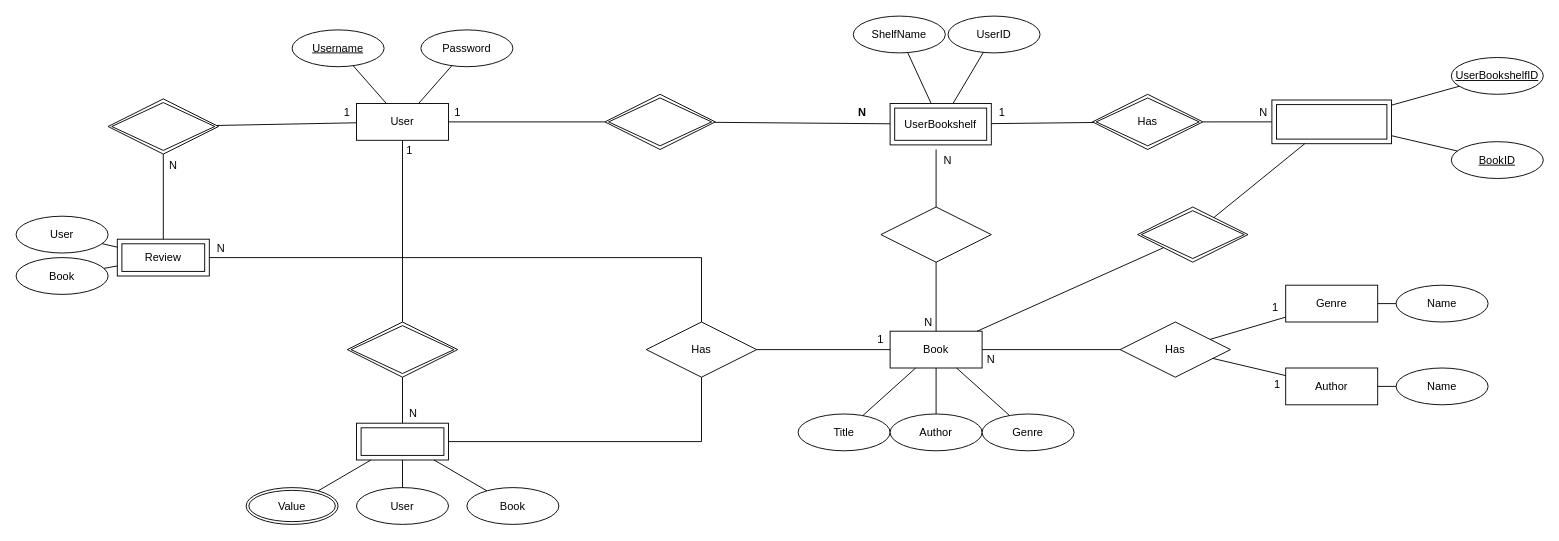
Image size: 1559x541. Some labels were removed from this diagram. The shapes that lost their labels are listed below. From the top down, each one's centre as x and y in pixels, then its label:
At pixel 162 126: "Writes".
At pixel 659 121: "Creates".
At pixel 1331 121: "UserBookshelfBook".
At pixel 935 234: "Sits".
At pixel 1192 234: "Contains".
At pixel 402 349: "Gives".
At pixel 402 441: "Rating".
